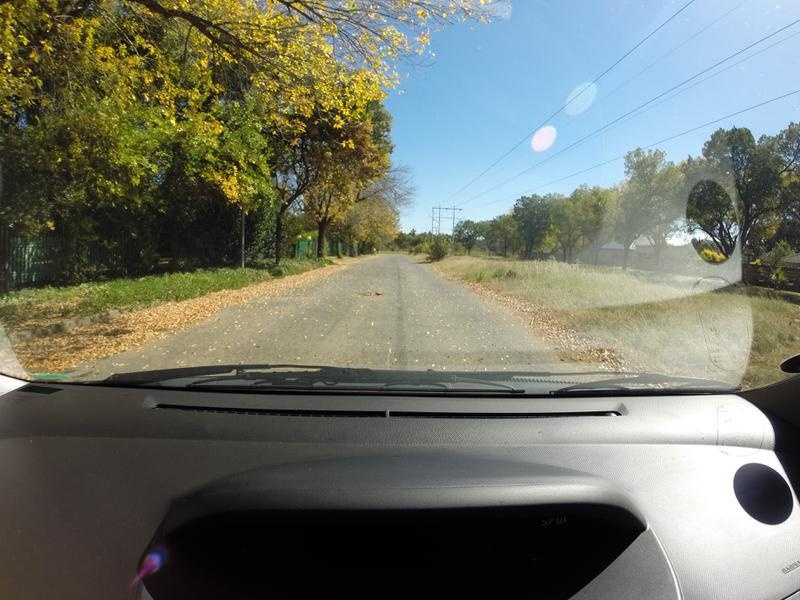pothole: (350, 293, 379, 301)
